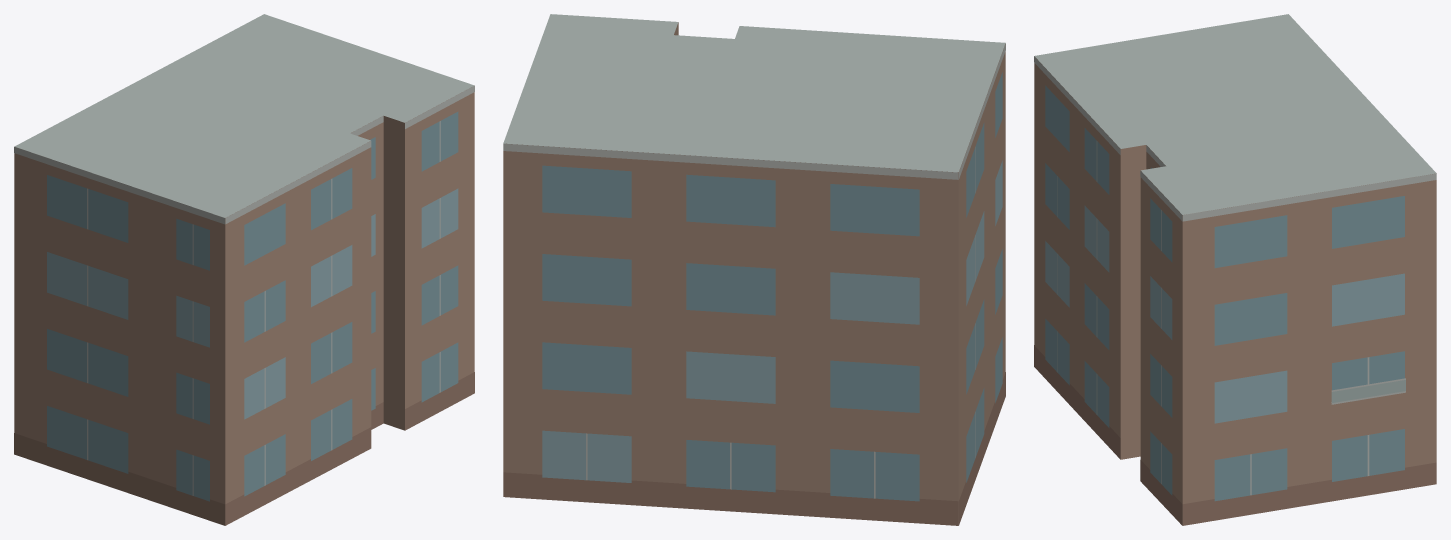
File: survey-upis-32853930.glb
The picture shows the model from 3 angles, left to right: view 1: azimuth 30°, elevation 25°; view 2: azimuth 150°, elevation 25°; view 3: azimuth 270°, elevation 25°; orthographic projection. The views are drawn at different scales.
Visible parts, largest first — view 1: survey-upis-32853930.tmp; view 2: survey-upis-32853930.tmp; view 3: survey-upis-32853930.tmp.
Part boxes in pixels (x1,y1,x2,y2): survey-upis-32853930.tmp: (14,14,474,525); survey-upis-32853930.tmp: (503,14,1005,525); survey-upis-32853930.tmp: (1034,14,1436,525).
Bounding box in the file's own units: 16.1 × 11.6 × 13.63.
